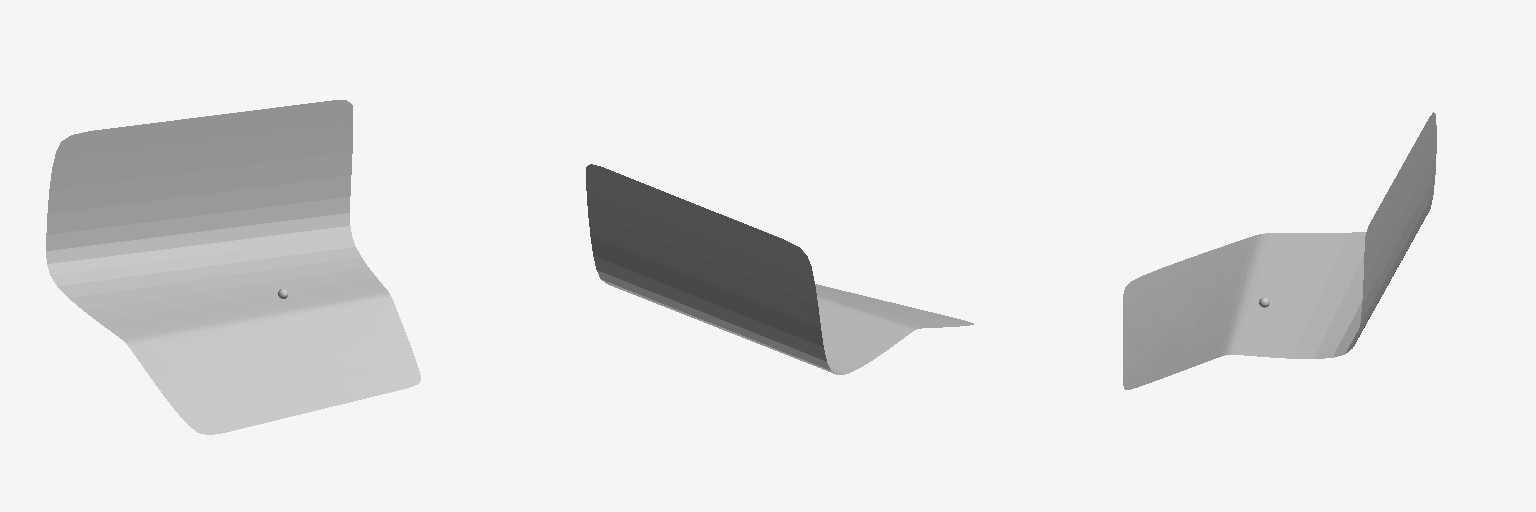
Rendered from humaneye.obj.
The picture shows the model from 3 angles: view 1: azimuth 30°, elevation 25°; view 2: azimuth 150°, elevation 25°; view 3: azimuth 270°, elevation 25°; orthographic projection.
Visible parts, largest first — view 1: Floor_Plano; view 2: Floor_Plano; view 3: Floor_Plano.
Boxes of the visible parts, <box> form: Floor_Plano: <box>46,100,420,434</box>; Floor_Plano: <box>586,164,973,374</box>; Floor_Plano: <box>1123,112,1436,389</box>.
Size of the model in its own units: 59.29 by 37.64 by 57.59.